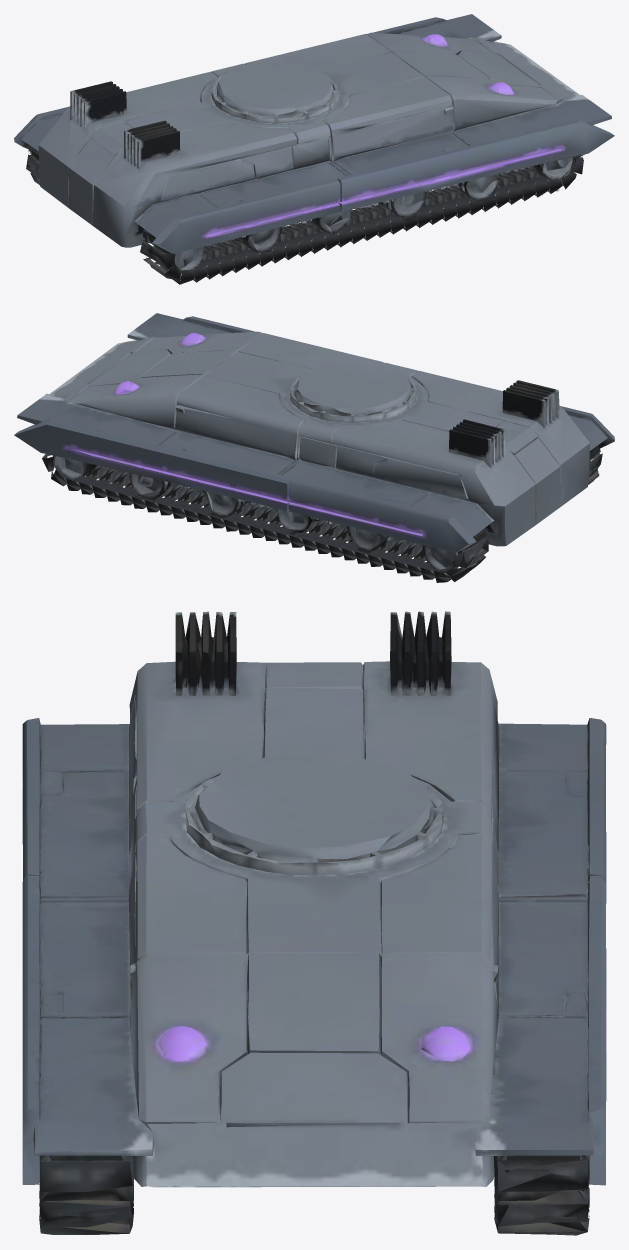
File: chassis-scout-1-light.glb
3 renders of one model, top to bottom at view 1: azimuth 30°, elevation 25°; view 2: azimuth 150°, elevation 25°; view 3: azimuth 270°, elevation 25°, orthographic. The views are drawn at different scales.
Visible parts, largest first — view 1: chassis-scout-1-light; view 2: chassis-scout-1-light; view 3: chassis-scout-1-light.
Part boxes in pixels (x1,y1,x2,y2): chassis-scout-1-light: (14, 14, 614, 284); chassis-scout-1-light: (14, 313, 614, 582); chassis-scout-1-light: (22, 611, 606, 1235).
Size of the model in its own units: 2.04 by 0.5078 by 1.09.
Materials: 1 (1 with a texture image).
